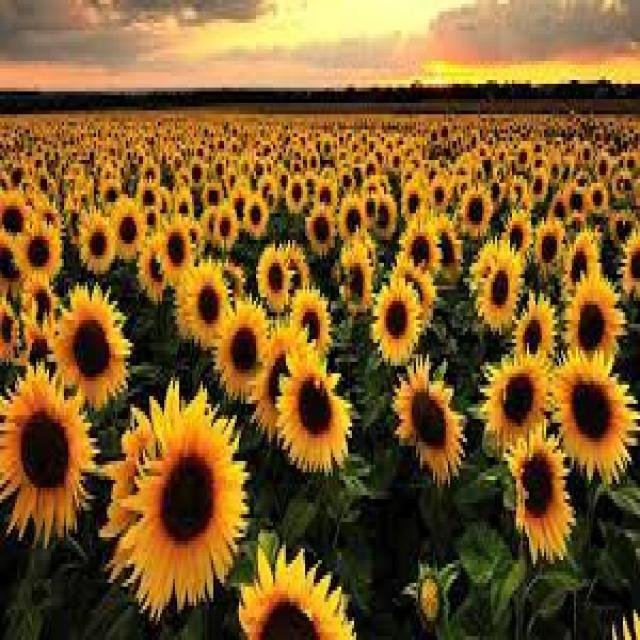sunflower: (6, 120, 640, 261), (107, 381, 245, 613), (0, 356, 96, 547), (237, 525, 357, 640), (552, 339, 640, 487), (506, 421, 580, 569), (387, 352, 466, 486), (280, 350, 356, 484), (65, 276, 127, 410), (480, 345, 553, 451), (215, 295, 274, 406), (565, 259, 625, 366), (255, 324, 306, 446), (369, 265, 422, 371), (182, 250, 232, 356), (474, 238, 520, 333), (14, 212, 61, 288), (514, 286, 559, 362), (136, 232, 175, 312), (566, 219, 603, 303), (336, 244, 377, 316), (79, 204, 117, 280), (292, 291, 333, 360), (107, 192, 145, 265), (400, 215, 441, 276), (157, 215, 191, 288), (254, 242, 290, 310), (429, 215, 463, 276), (500, 204, 532, 265), (461, 183, 493, 240), (308, 204, 342, 257), (537, 212, 562, 276), (337, 194, 371, 240), (621, 226, 640, 306), (0, 187, 30, 236), (427, 170, 452, 227), (400, 177, 426, 231), (241, 192, 273, 235), (0, 299, 21, 360), (370, 191, 398, 236), (215, 204, 239, 253), (285, 166, 310, 211), (585, 177, 610, 219), (189, 152, 210, 198), (526, 170, 549, 208), (505, 179, 532, 210), (336, 162, 355, 204), (133, 183, 161, 209), (516, 136, 534, 173), (362, 156, 380, 183), (579, 139, 596, 166)
